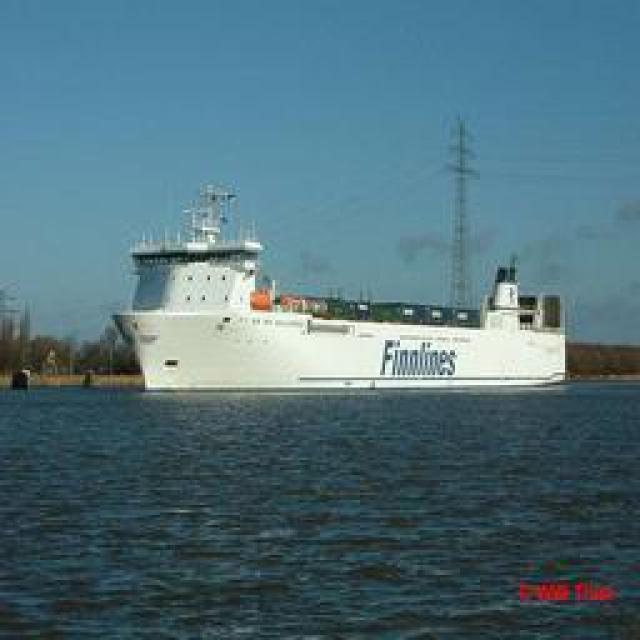Ship: (115, 234, 563, 397)
